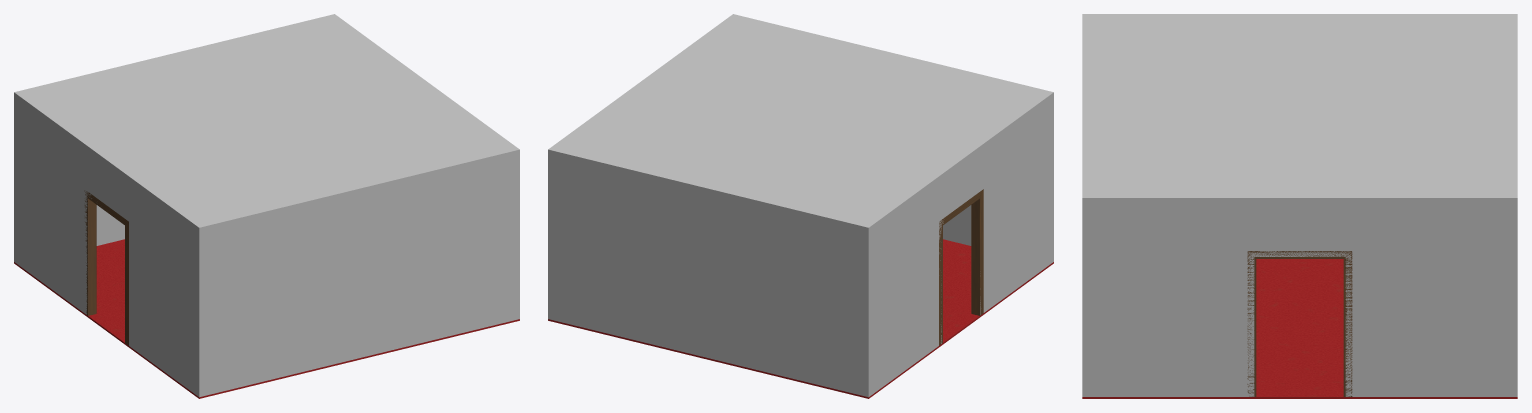
Rendered from 1x1_hotel_room_straight_x.obj.
3 renders of one model, left to right at view 1: azimuth 30°, elevation 25°; view 2: azimuth 150°, elevation 25°; view 3: azimuth 270°, elevation 25°, orthographic. The views are drawn at different scales.
Visible parts, largest first — view 1: 1x1_hotel_room_straight_x; view 2: 1x1_hotel_room_straight_x; view 3: 1x1_hotel_room_straight_x.
Boxes of the visible parts, x1,y1,x2,y2 form: 1x1_hotel_room_straight_x: (14,14,519,398); 1x1_hotel_room_straight_x: (548,14,1053,398); 1x1_hotel_room_straight_x: (1082,14,1517,398).
Size of what is drawn, in the model's own units: 20 by 10.2 by 20.
